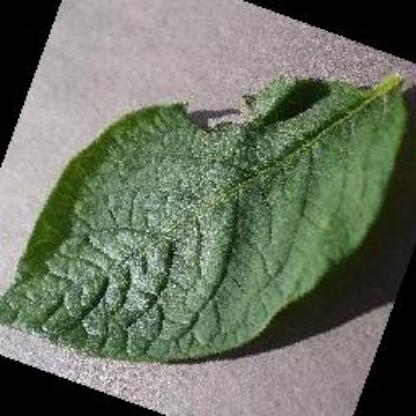Healthy-plant: (3, 53, 413, 363)
